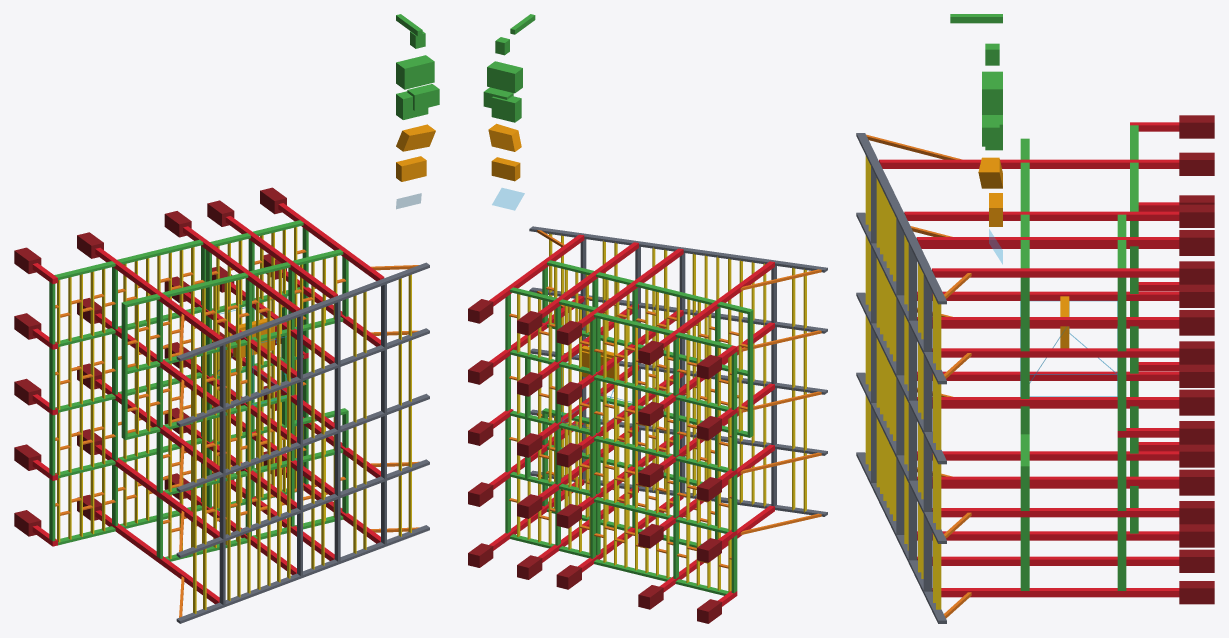
The model's file is tinker.obj.
The picture shows the model from 3 angles, left to right: view 1: azimuth 30°, elevation 25°; view 2: azimuth 150°, elevation 25°; view 3: azimuth 270°, elevation 25°; orthographic projection. The views are drawn at different scales.
Visible parts, largest first — view 1: obj_1, obj_420, obj_2, obj_20, obj_15, obj_3, obj_421, obj_4, obj_11, obj_6, obj_419, obj_7 (+10 smaller); view 2: obj_1, obj_420, obj_2, obj_421, obj_3, obj_4, obj_419, obj_20, obj_15, obj_7, obj_21, obj_12 (+11 smaller); view 3: obj_1, obj_2, obj_3, obj_4, obj_9, obj_18, obj_23, obj_13, obj_17, obj_22, obj_8, obj_16 (+54 smaller).
Boxes of the visible parts, x1=… form: obj_1: x1=95, y1=247, x2=222, y2=341; obj_420: x1=396, y1=84, x2=439, y2=119; obj_2: x1=183, y1=226, x2=300, y2=312; obj_20: x1=95, y1=510, x2=219, y2=603; obj_15: x1=95, y1=444, x2=219, y2=538; obj_3: x1=225, y1=216, x2=337, y2=298; obj_421: x1=396, y1=55, x2=434, y2=89; obj_4: x1=278, y1=203, x2=384, y2=280; obj_11: x1=95, y1=379, x2=219, y2=472; obj_6: x1=95, y1=313, x2=219, y2=407; obj_419: x1=396, y1=124, x2=435, y2=151; obj_7: x1=183, y1=292, x2=296, y2=378; obj_1: x1=659, y1=261, x2=774, y2=347; obj_420: x1=483, y1=87, x2=521, y2=122; obj_2: x1=578, y1=248, x2=683, y2=327; obj_421: x1=487, y1=61, x2=522, y2=93; obj_3: x1=538, y1=242, x2=638, y2=318; obj_4: x1=489, y1=234, x2=584, y2=306; obj_419: x1=488, y1=123, x2=521, y2=151; obj_20: x1=659, y1=505, x2=774, y2=592; obj_15: x1=659, y1=444, x2=774, y2=531; obj_7: x1=578, y1=310, x2=683, y2=389; obj_21: x1=578, y1=496, x2=683, y2=572; obj_12: x1=578, y1=372, x2=683, y2=450; obj_1: x1=879, y1=159, x2=1179, y2=168; obj_2: x1=904, y1=211, x2=1179, y2=220; obj_3: x1=916, y1=237, x2=1179, y2=246; obj_4: x1=932, y1=268, x2=1179, y2=277; obj_9: x1=932, y1=348, x2=1179, y2=357; obj_18: x1=932, y1=508, x2=1179, y2=517; obj_23: x1=932, y1=588, x2=1179, y2=597; obj_13: x1=917, y1=397, x2=1179, y2=406; obj_17: x1=917, y1=476, x2=1179, y2=485; obj_22: x1=917, y1=556, x2=1179, y2=565; obj_8: x1=917, y1=317, x2=1179, y2=326; obj_16: x1=917, y1=451, x2=1179, y2=460.
Bounding box in the file's own units: 132 × 192 × 102.
